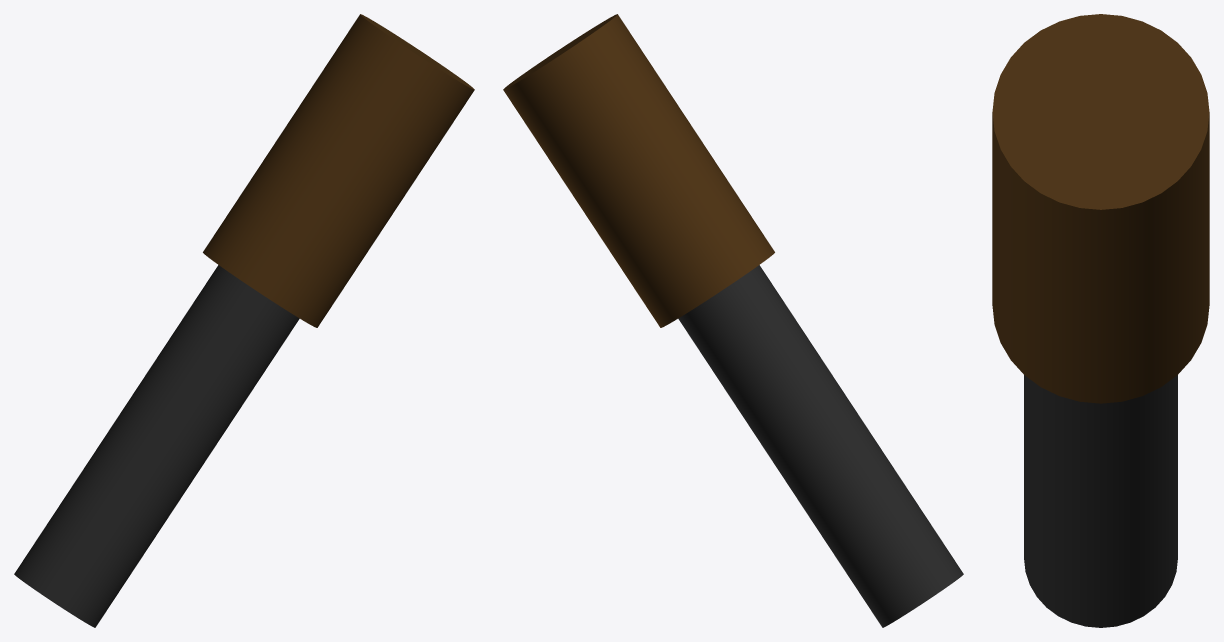
The model's file is Been Links Achter Frame Vering Systeem.fbx.
3 renders of one model, left to right at view 1: azimuth 30°, elevation 25°; view 2: azimuth 150°, elevation 25°; view 3: azimuth 270°, elevation 25°, orthographic. The views are drawn at different scales.
Visible parts, largest first — view 1: Vering.014; view 2: Vering.014; view 3: Vering.014.
Boxes of the visible parts, box(x1,y1,x2,y2) form: Vering.014: box(14, 14, 474, 627); Vering.014: box(503, 14, 963, 627); Vering.014: box(992, 14, 1209, 627).
Size of the model in its own units: 264 by 301 by 71.25.
